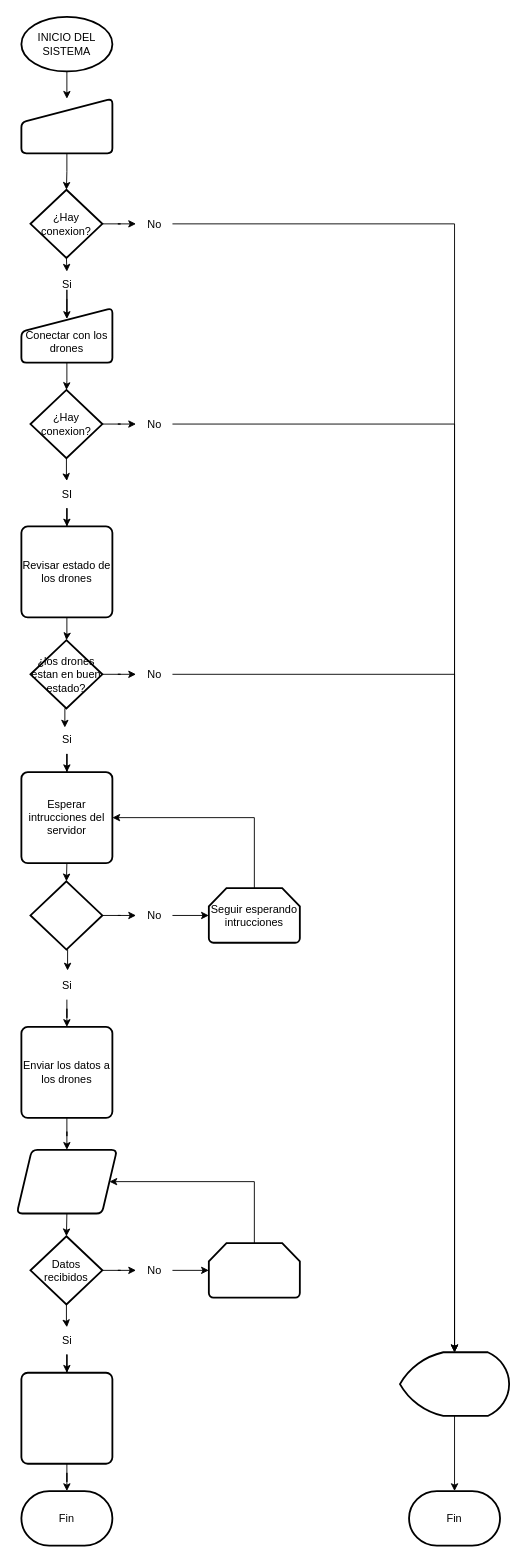
This 525x1562 diagram has some shape labels left out. Here are the shapes that lost their labels. From the top down, the box of each, then its label:
(20, 97, 113, 154): Conectar con el servidor
(29, 880, 103, 950): ¿Intrucciones recibidas?
(15, 1148, 117, 1214): Esperar datos de los drones
(207, 1242, 300, 1298): Seguir esperando datos
(399, 1351, 510, 1416): Mostrar mensaje de error
(20, 1371, 113, 1464): Enviar los datos al servidor
